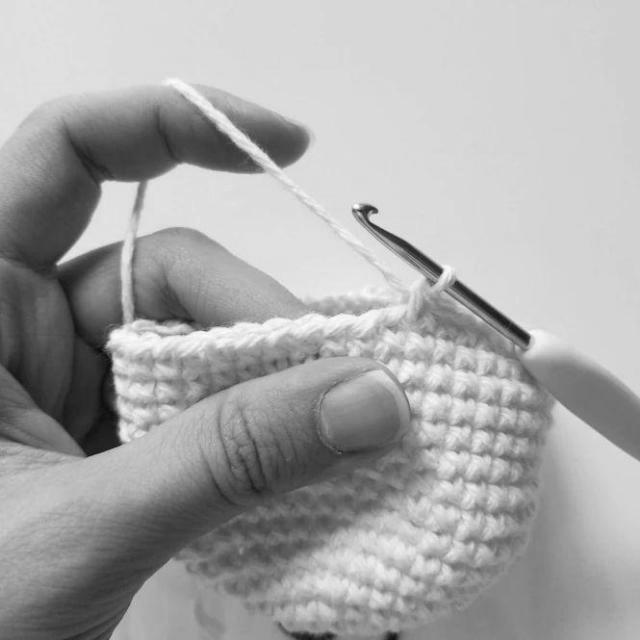sc: (318, 312, 360, 357), (347, 308, 384, 354), (173, 332, 209, 379), (103, 330, 138, 375), (153, 335, 187, 379), (128, 333, 160, 379), (289, 317, 324, 359), (262, 317, 294, 362), (376, 307, 407, 352), (230, 325, 262, 368), (423, 501, 461, 535), (206, 326, 233, 373), (453, 511, 488, 542), (220, 563, 253, 595), (452, 306, 477, 348), (395, 572, 432, 600), (414, 294, 439, 333), (436, 449, 469, 478), (405, 468, 438, 497), (434, 562, 468, 590), (398, 358, 428, 389), (244, 552, 277, 580), (426, 363, 453, 397), (417, 532, 453, 557), (184, 373, 214, 403), (371, 562, 400, 593), (433, 476, 464, 504), (285, 572, 313, 603), (373, 448, 412, 470), (443, 539, 477, 564), (401, 494, 435, 519), (284, 544, 313, 573), (376, 486, 406, 514), (415, 421, 446, 448), (461, 479, 487, 511), (483, 511, 511, 539), (444, 425, 473, 452), (390, 542, 417, 571), (306, 600, 340, 623), (404, 333, 434, 359), (452, 368, 478, 398), (477, 375, 503, 405), (349, 555, 379, 581), (409, 555, 441, 579), (438, 297, 456, 339), (465, 454, 493, 481), (471, 542, 499, 569), (331, 547, 361, 572), (397, 520, 429, 543), (352, 465, 384, 487), (515, 410, 542, 436), (470, 430, 497, 456), (423, 393, 448, 421), (414, 447, 442, 472), (135, 402, 160, 430), (242, 520, 267, 548), (327, 571, 352, 599), (157, 378, 186, 402), (451, 398, 475, 426), (485, 483, 509, 511), (343, 583, 373, 605), (341, 603, 372, 624), (306, 574, 330, 601), (264, 576, 288, 603), (360, 505, 383, 533), (130, 378, 156, 402), (488, 456, 510, 484), (208, 370, 236, 392), (354, 528, 380, 551), (377, 536, 400, 561), (334, 497, 357, 522), (520, 384, 542, 410), (493, 430, 515, 456), (432, 340, 455, 364), (513, 434, 536, 458), (504, 459, 527, 483), (310, 545, 334, 568), (264, 523, 289, 545), (502, 379, 521, 407), (496, 409, 519, 432), (393, 594, 417, 616), (454, 344, 475, 369), (332, 526, 356, 547), (476, 349, 495, 375), (509, 485, 528, 511), (407, 391, 425, 417), (383, 509, 401, 535), (369, 592, 395, 610), (115, 397, 134, 421), (114, 374, 131, 397), (427, 586, 451, 602), (360, 482, 379, 502), (498, 540, 515, 561), (495, 355, 511, 377), (292, 500, 308, 517)
